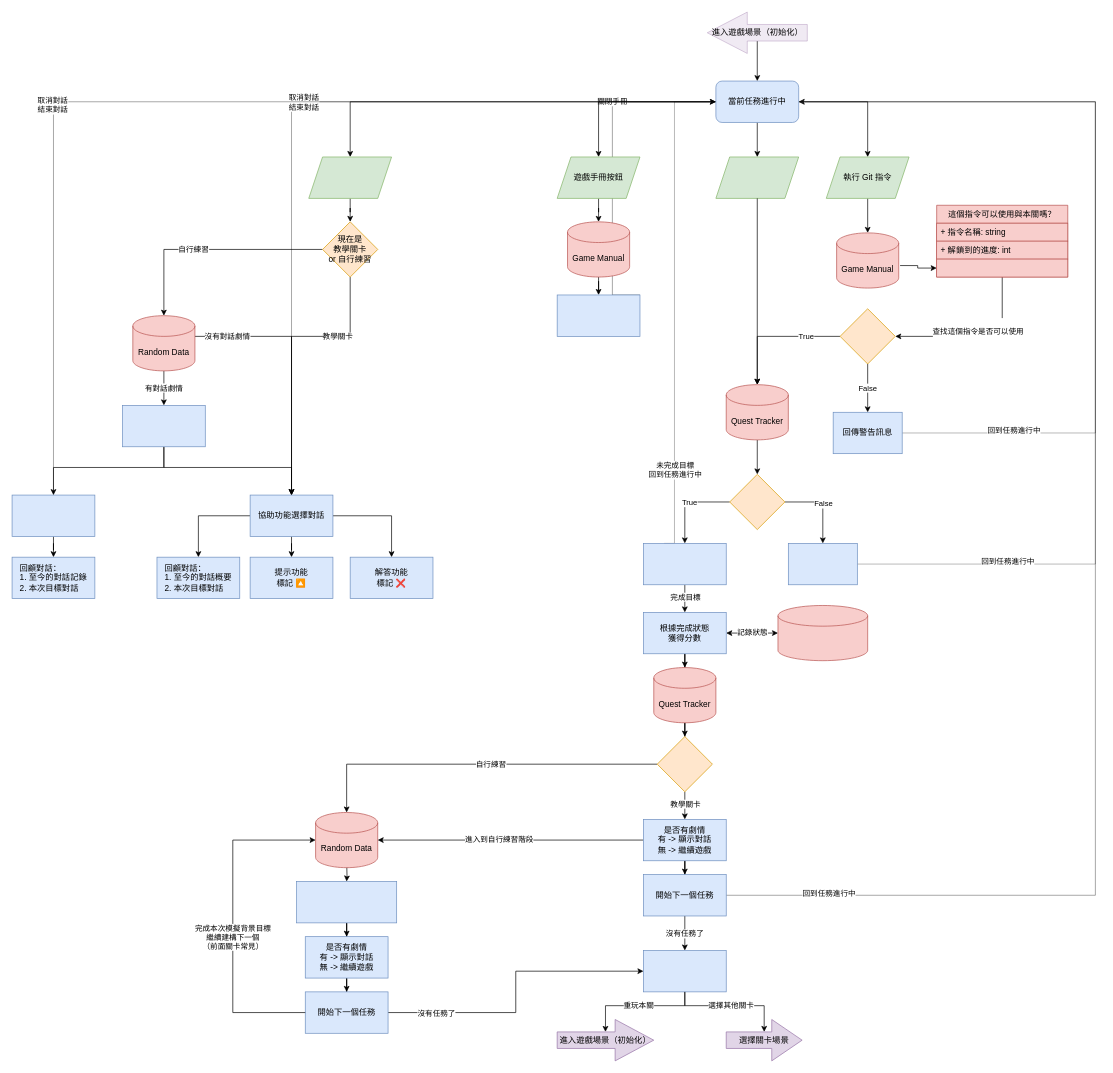
Image size: 1113x1073. Some labels were removed from this diagram. The centre of each missing label's shape, as x and y in pixels:
"(Quest Filter) 操作符合當前目標需求嗎？" goes at (757,502).
"(Quest Valider) 判定這個操作 是否完成目標" goes at (684,564).
"+ 可以用於本關: bool" goes at (1002,267).
"Game Manager (GameData Manager)" goes at (822,633).
"協助功能按鈕" goes at (350,177).
"回傳警告訊息 標記：✅" goes at (822,564).
"委託人對話" goes at (53,515).
"指令 可以使用嗎？" goes at (867,336).
"教學關卡 or 自行練習" goes at (684,764).
"根據 Random Data 的 FileData 來建構對應檔案、狀態" goes at (346,902).
"通過關卡！ 顯示結算畫面" goes at (684,971).
"選擇對話： 1. 協助功能 2. 與委託人對話" goes at (163,426).
"開啟手冊內容" goes at (598,315).
"開啟視窗 or 其他功能" goes at (757,177).
